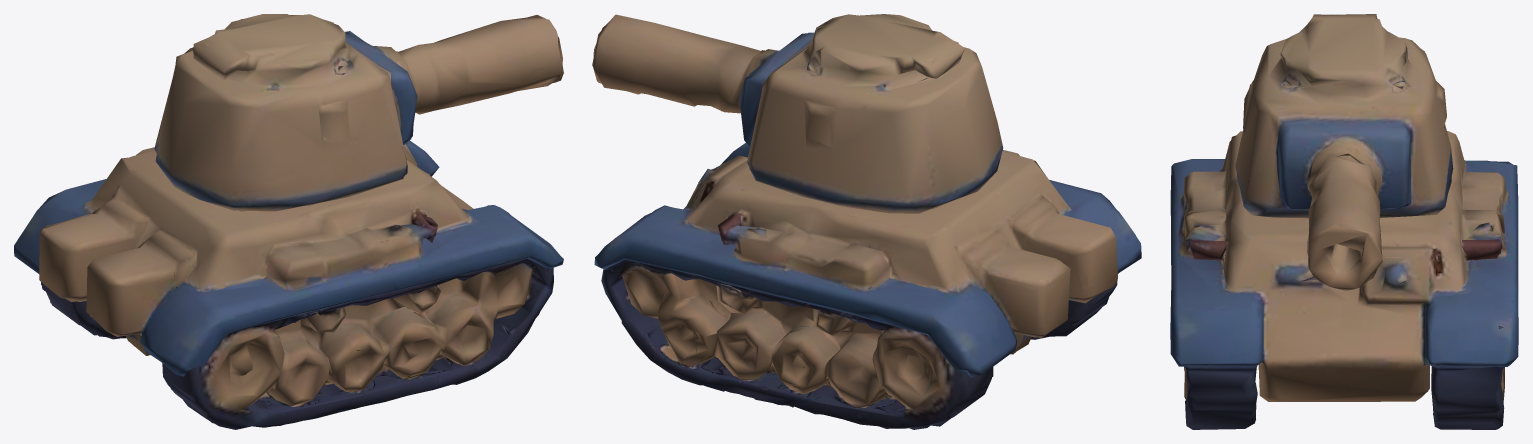
Rendered from tank-rig.glb.
3 views of the same model, side by side, from view 1: azimuth 30°, elevation 25°; view 2: azimuth 150°, elevation 25°; view 3: azimuth 270°, elevation 25° (orthographic).
Parts seen in each view (by area): view 1: body; view 2: body; view 3: body.
Boxes of the visible parts, <box> form: body: <box>14,14,563,429</box>; body: <box>592,14,1141,429</box>; body: <box>1170,14,1518,429</box>.
Size of the model in its own units: 3.97 by 2.6 by 2.5.
1 material, 1 textured.
